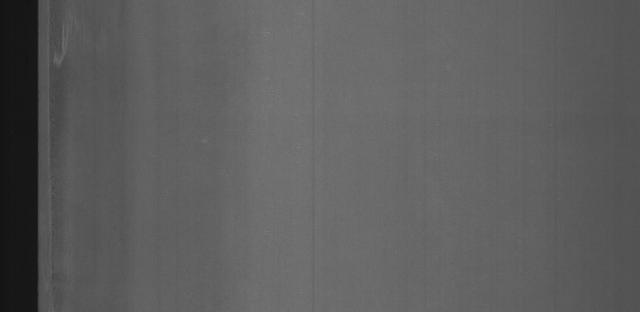silk_spot: (41, 11, 86, 73)
